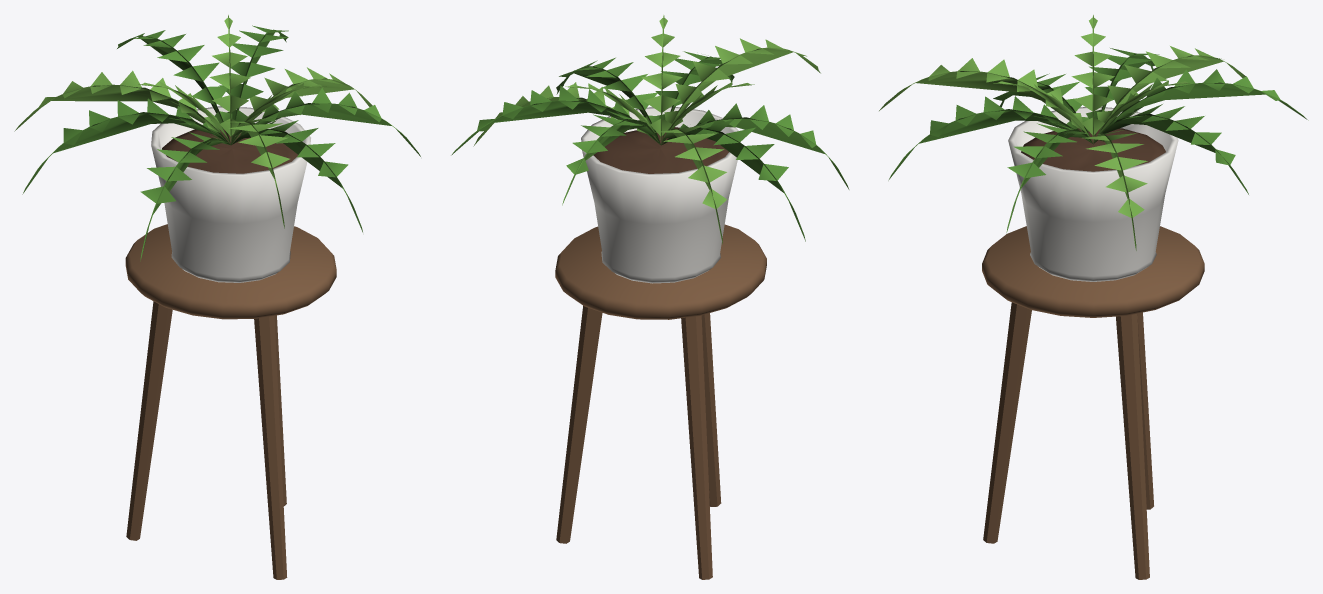
The model's file is bostonFern.glb.
3 views of the same model, side by side, from view 1: azimuth 30°, elevation 25°; view 2: azimuth 150°, elevation 25°; view 3: azimuth 270°, elevation 25° (orthographic).
Parts seen in each view (by area): view 1: bostonFern; view 2: bostonFern; view 3: bostonFern.
Part boxes in pixels (<box>): bostonFern: <box>14,15,420,579</box>; bostonFern: <box>451,15,849,579</box>; bostonFern: <box>879,15,1308,579</box>.
Bounding box in the file's own units: 0.734 × 0.979 × 0.792.
